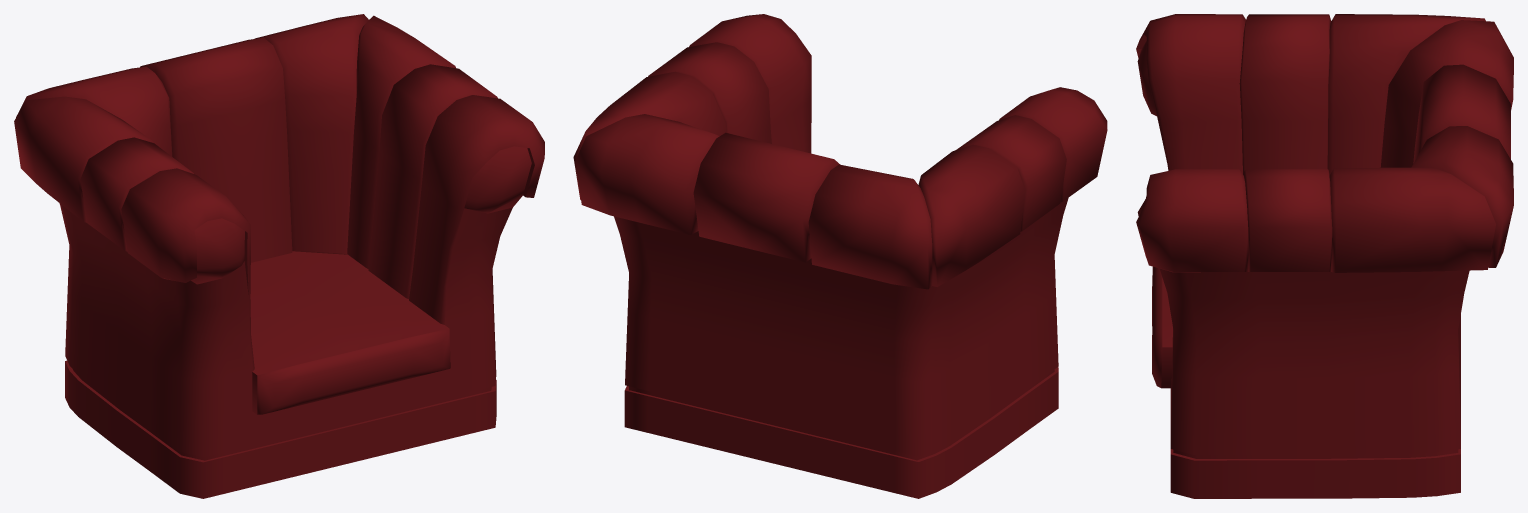
Rendered from LoungeCouch1UV.fbx.
3 views of the same model, side by side, from view 1: azimuth 30°, elevation 25°; view 2: azimuth 150°, elevation 25°; view 3: azimuth 270°, elevation 25° (orthographic). The views are drawn at different scales.
Visible parts, largest first — view 1: couches:polySurface15; view 2: couches:polySurface15; view 3: couches:polySurface15.
Boxes of the visible parts, x1=… form: couches:polySurface15: x1=14, y1=14, x2=544, y2=498; couches:polySurface15: x1=573, y1=14, x2=1107, y2=498; couches:polySurface15: x1=1136, y1=14, x2=1513, y2=498.
Size of the model in its own units: 151 by 116 by 122.
